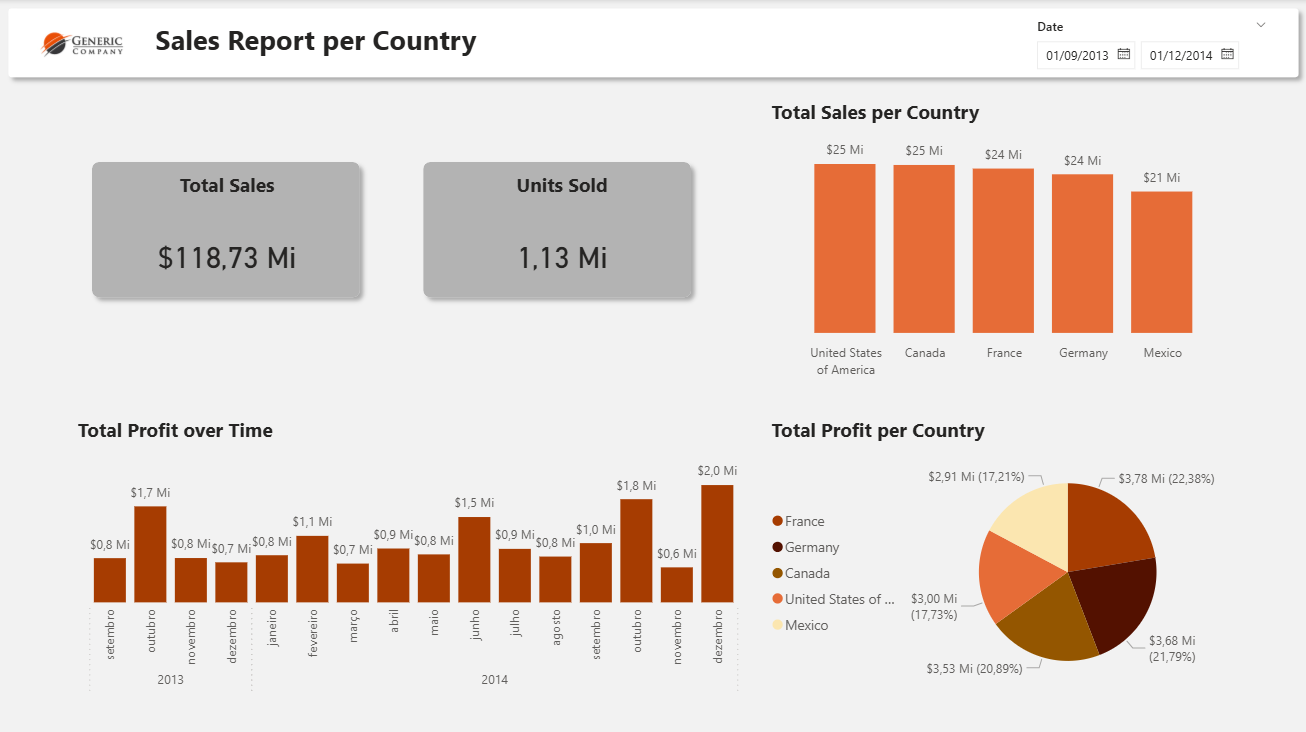

The dashboard page shown, as its layout file describes it:
{"tool":"powerbi","page":{"name":"Sales-Region","canvas":[1280,720],"ordinal":1},"visuals":[{"type":"pieChart","title":"Total Profit per Country","fields":{"Y":["Sum(financials.Profit)"],"Category":["financials.Country"]},"box":[750.8,408.4,454.9,280],"z":0},{"type":"clusteredColumnChart","title":"Total Profit over Time","fields":{"Y":["Sum(financials.Profit)"],"Category":["financials.Date.Variation.Hierarquia de datas.Ano","financials.Date.Variation.Hierarquia de datas.Mês"]},"box":[72.4,408.4,667.7,280],"z":1000},{"type":"clusteredColumnChart","title":"Total Sales per Country","fields":{"Category":["financials.Country"],"Y":["Sum(financials. Sales)"]},"box":[751,97.8,454.9,280],"z":2000},{"type":"shape","box":[0,0,1280.3,85.6],"z":3000},{"type":"slicer","fields":{"Values":["financials.Date"]},"box":[1002.7,13.5,249.5,59.9],"z":4000},{"type":"image","box":[15.9,11,132.1,62.4],"z":5000},{"type":"textbox","box":[148,15.9,527,52.6],"z":6000},{"type":"shape","box":[81.9,150.4,280,150.4],"z":7000},{"type":"card","title":"Total Sales","fields":{"Values":["Sum(financials. Sales)"]},"box":[83.2,168.8,280,140.6],"z":8000},{"type":"shape","box":[406,150.4,280,150.4],"z":9000},{"type":"card","title":"Units Sold","fields":{"Values":["Sum(financials.Units Sold)"]},"box":[410.9,168.8,280,140.6],"z":10000}]}

Visuals, with their boxes in screenshot pixels (x1, y1, x2, y2), scaled from the page's 1280x720 canvas onto the 1306x732 screenshot:
"Total Profit per Country" pieChart: [left=766, top=415, right=1230, bottom=700]
"Total Profit over Time" clusteredColumnChart: [left=74, top=415, right=755, bottom=700]
"Total Sales per Country" clusteredColumnChart: [left=766, top=99, right=1230, bottom=384]
shape: [left=0, top=0, right=1305, bottom=87]
slicer - financials.Date: [left=1023, top=14, right=1278, bottom=75]
image: [left=16, top=11, right=151, bottom=75]
textbox: [left=151, top=16, right=689, bottom=70]
shape: [left=84, top=153, right=369, bottom=306]
"Total Sales" card: [left=85, top=172, right=371, bottom=315]
shape: [left=414, top=153, right=700, bottom=306]
"Units Sold" card: [left=419, top=172, right=705, bottom=315]
